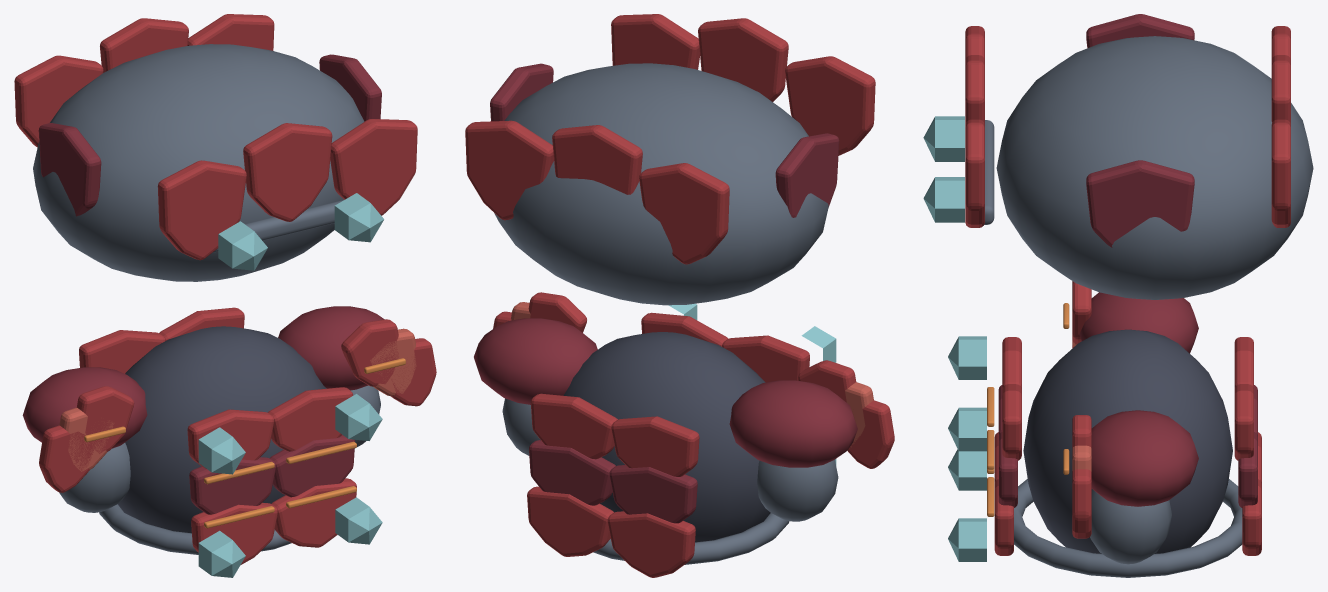
The model's file is armor_dragonmail.glb.
3 views of the same model, side by side, from view 1: azimuth 30°, elevation 25°; view 2: azimuth 150°, elevation 25°; view 3: azimuth 270°, elevation 25° (orthographic). The views are drawn at different scales.
Parts seen in each view (by area): view 1: dragon_crown_crystal, dragon_crystal_clasp, dragon_iron_sleeve, dragon_iron_sleeve.001; view 2: dragon_crown_crystal, dragon_crystal_clasp, dragon_iron_sleeve, dragon_iron_sleeve.001; view 3: dragon_crown_crystal, dragon_crystal_clasp, dragon_iron_sleeve.001, dragon_iron_sleeve.
Part boxes in pixels (x1,y1,x2,y2): dragon_crown_crystal: (14,14,417,281); dragon_crystal_clasp: (79,307,382,577); dragon_iron_sleeve: (22,367,147,512); dragon_iron_sleeve.001: (278,306,436,446); dragon_crown_crystal: (465,14,875,305); dragon_crystal_clasp: (527,303,836,577); dragon_iron_sleeve: (729,360,894,521); dragon_iron_sleeve.001: (474,292,597,455); dragon_crown_crystal: (923,14,1313,299); dragon_crystal_clasp: (948,329,1261,577); dragon_iron_sleeve.001: (1063,410,1198,564); dragon_iron_sleeve: (1063,281,1198,353).
Bounding box in the file's own units: 0.9918 × 1.13 × 0.8.
